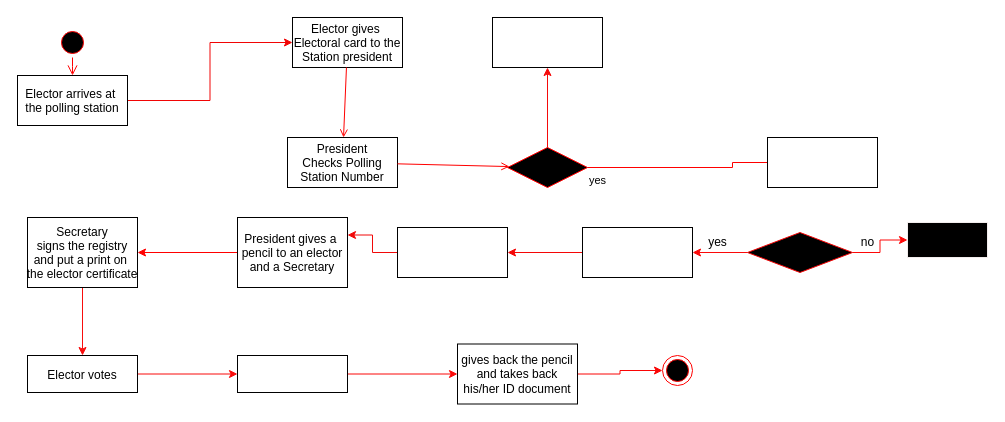
Image size: 1005x422. Some labels were removed from this diagram. Each missing label, with the box of its shape:
Checks Identity Document: (766, 136, 878, 188)
End the Check: (492, 16, 602, 68)
Gives back the Ballot Paper to the Elector: (582, 226, 692, 278)
He/she inserts ballot in the Urn: (236, 354, 348, 392)
Waits for Cabin to get free: (396, 226, 508, 278)
